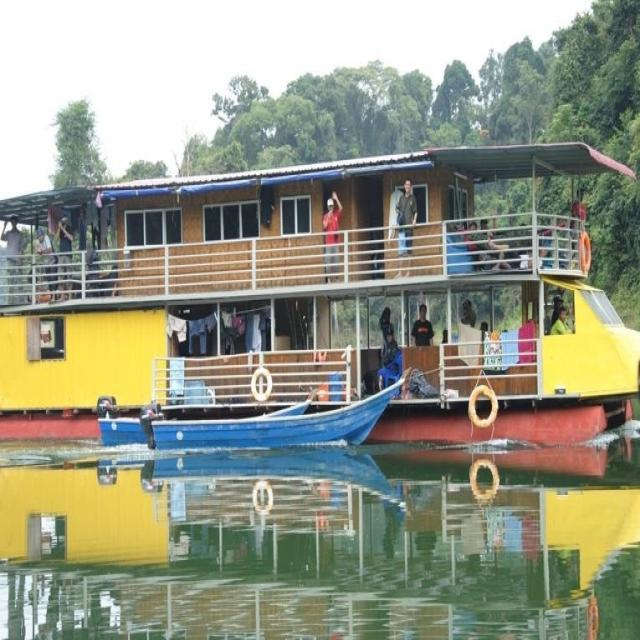boat: (2, 186, 640, 456), (144, 368, 426, 465)
